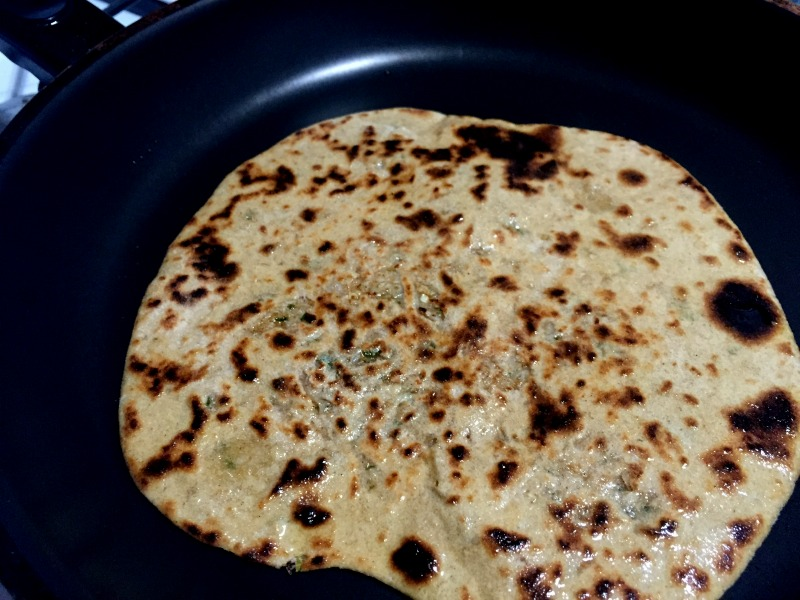aloo_paratha: (117, 112, 798, 592)
